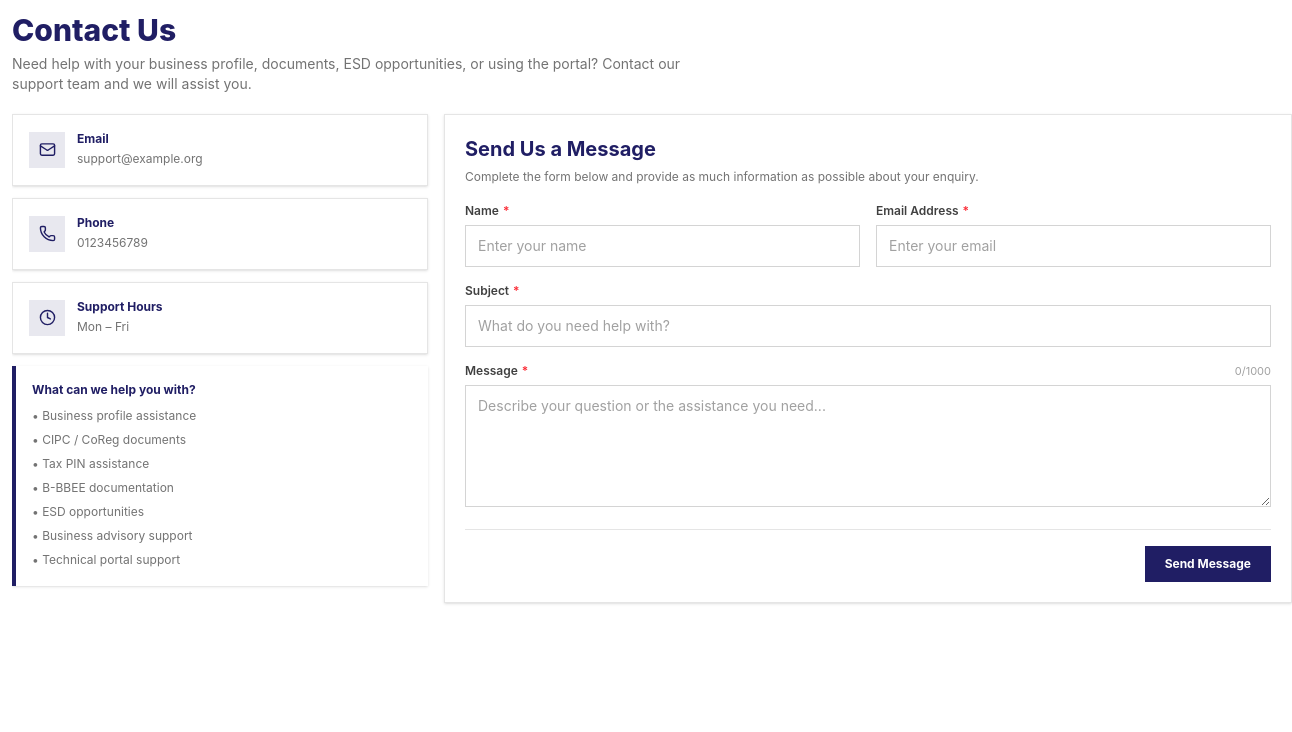
Test case: ContactUsScreen › submits the form data, shows success and resets the form
Type "Jane Doe" into the field labelled "Name*". click: (662, 246)
box: [465,224,860,266]
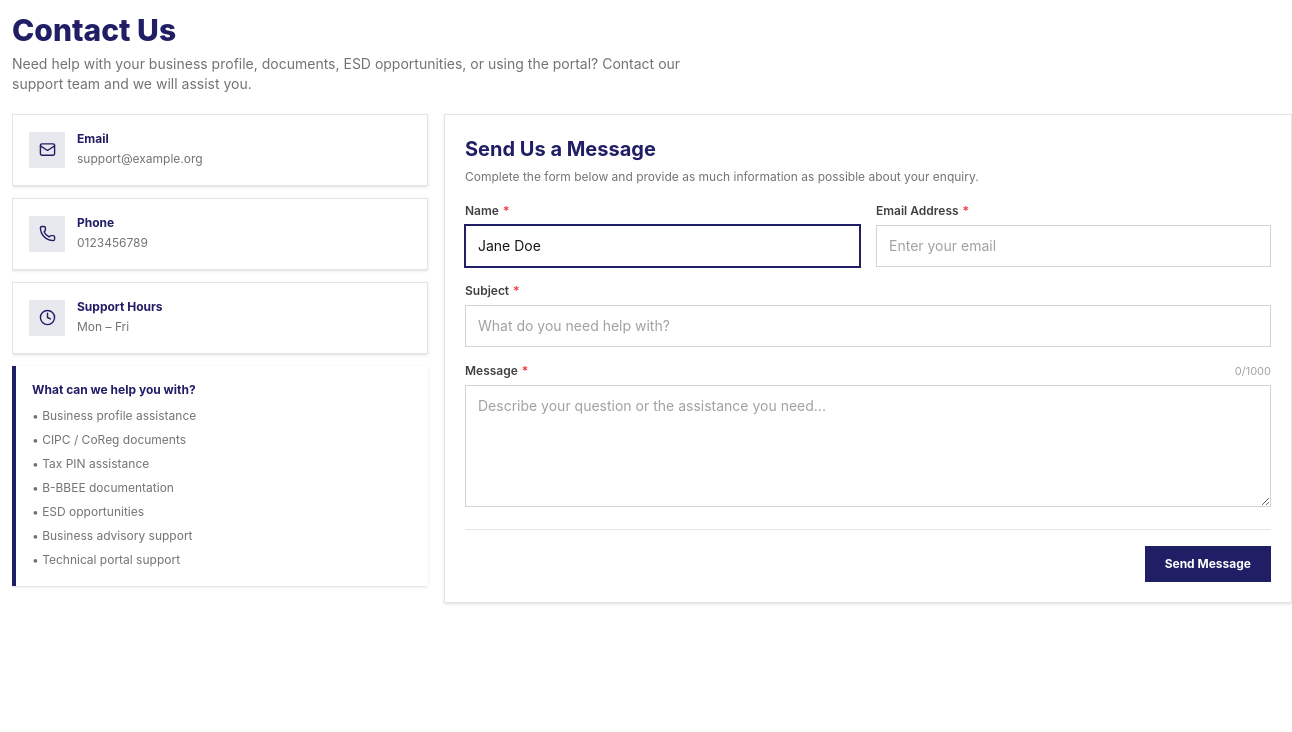
Type "jane@example.com" into the field labelled "Email Address*". click: (1074, 246)
box: [876,224,1271,266]
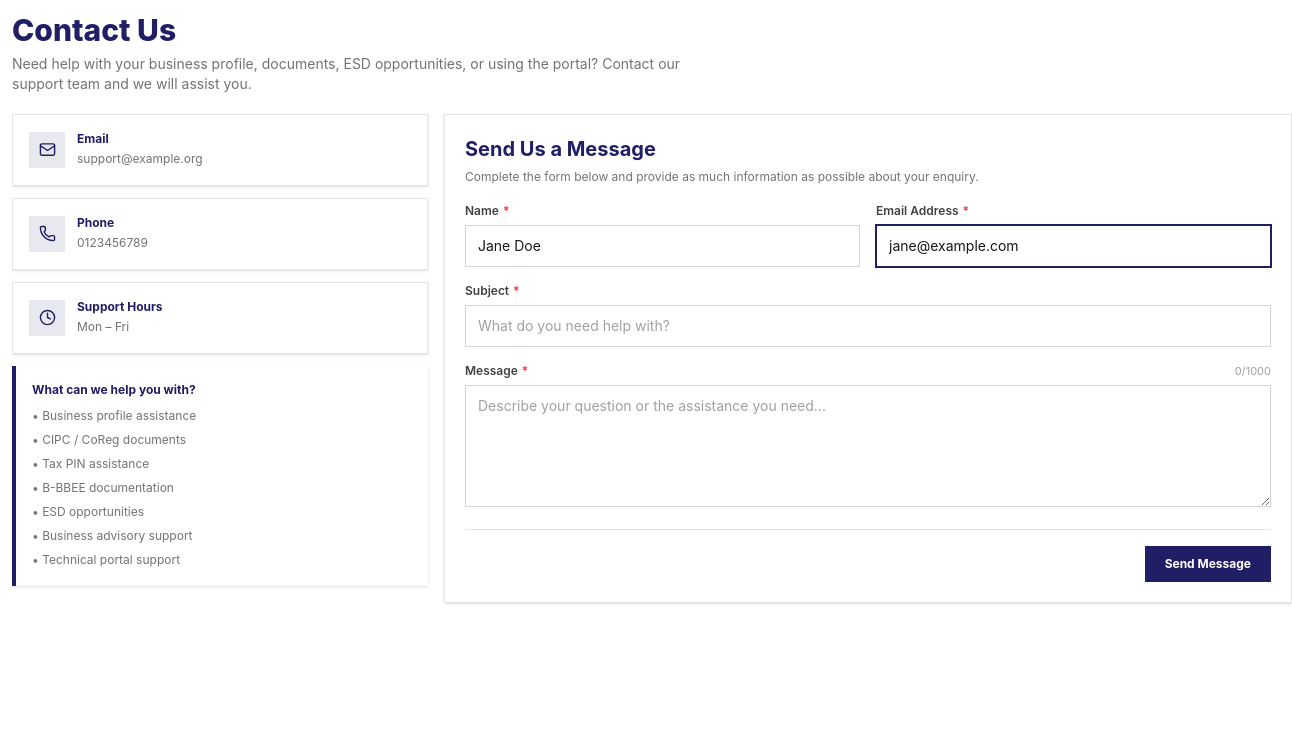
Type "Tax PIN help" into the field labelled "Subject*". click: (868, 326)
box: [465,304,1271,346]
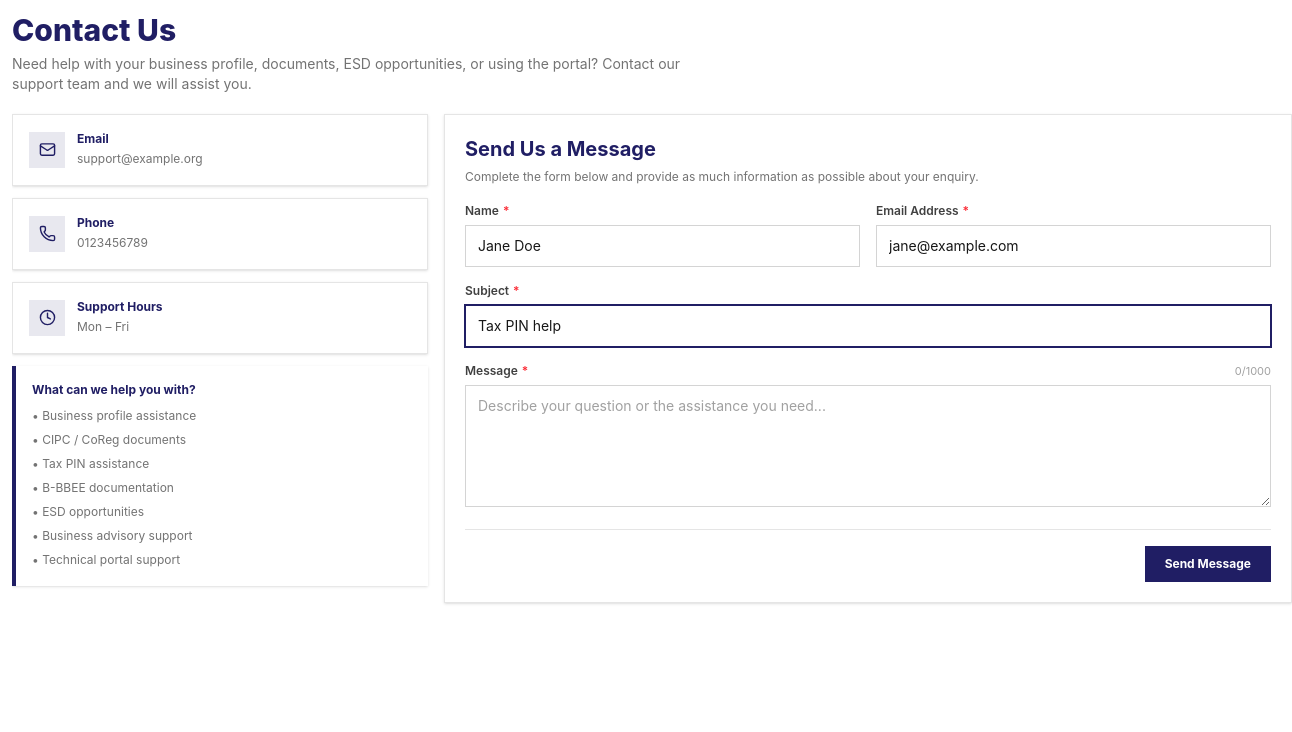
Type "I need help please" into the text box labelled "Message*". click: (868, 446)
box: [465,385,1271,507]
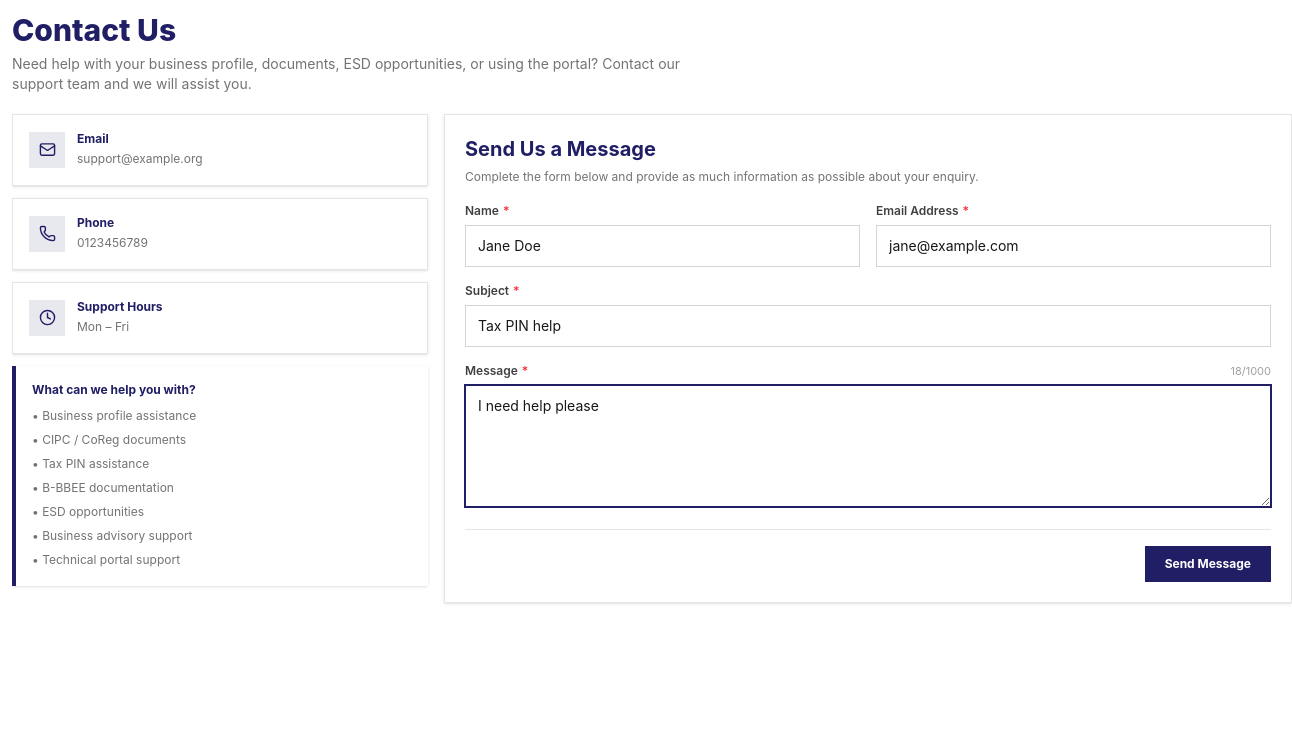
Click the button "Send Message". click: (1208, 564)
box: [1145,546,1271,582]
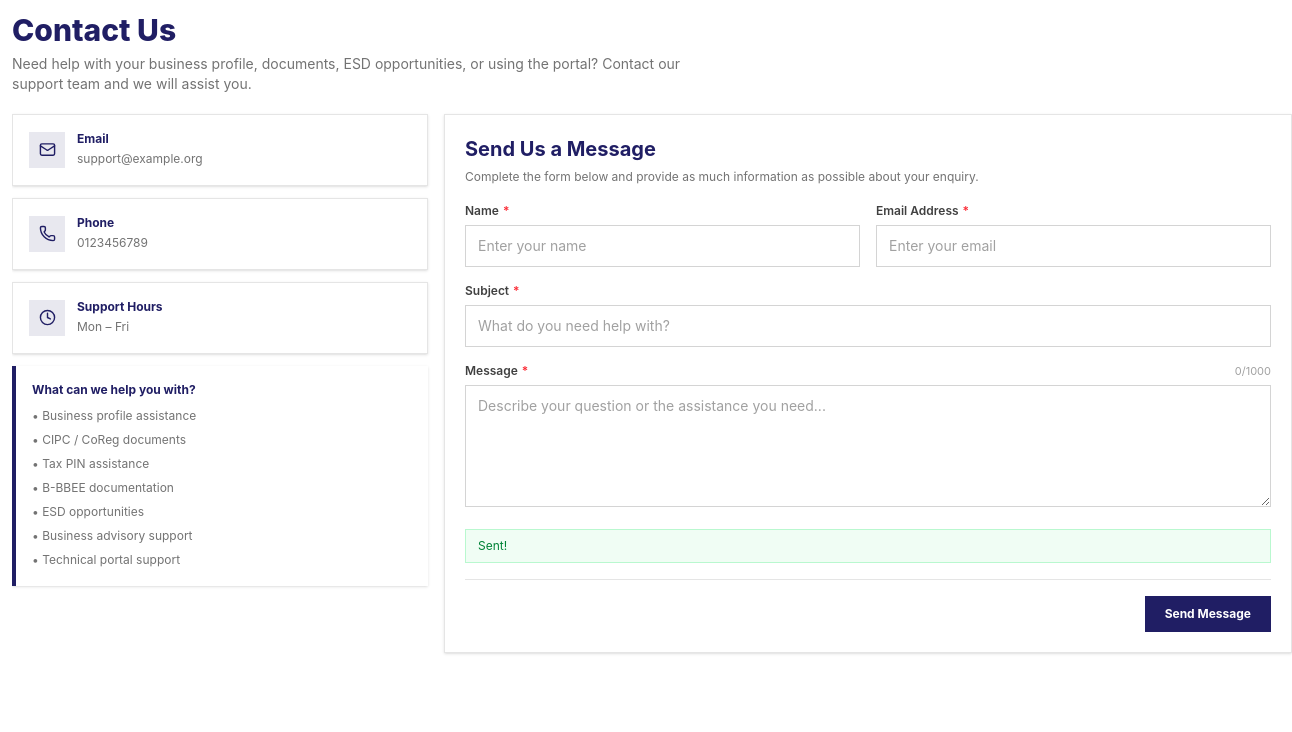
Expected: the message reads "Sent!", [478,538,507,553]
Expected: the field labelled "Name*" is empty, [465,224,860,266]
Expected: the field labelled "Email Address*" is empty, [876,224,1271,266]
